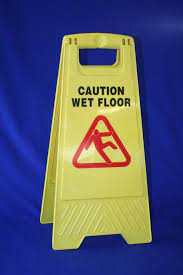wet caution sign: (50, 24, 163, 264)
